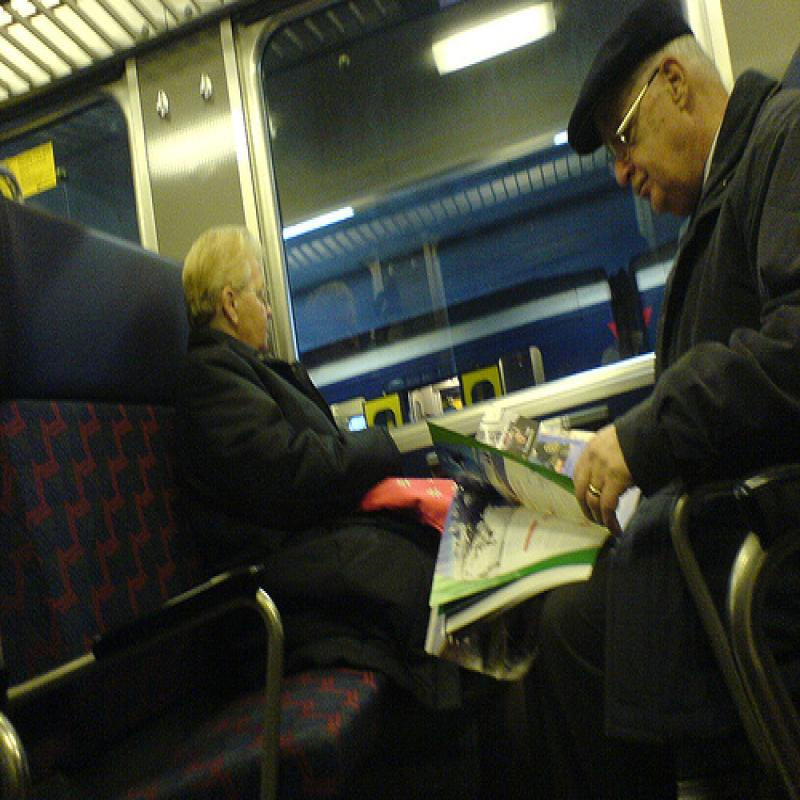train: (297, 242, 678, 434)
